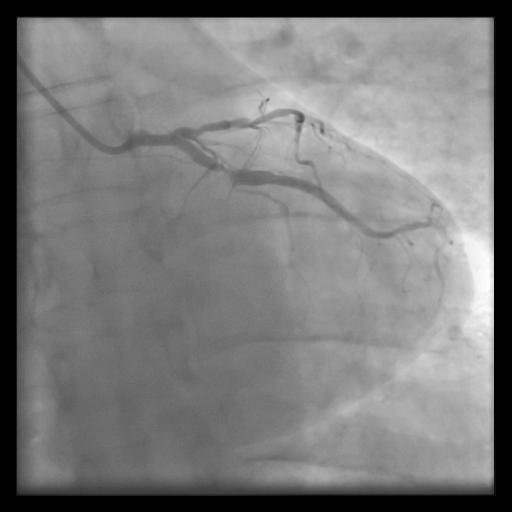Stenosis: (212, 155, 243, 188)
